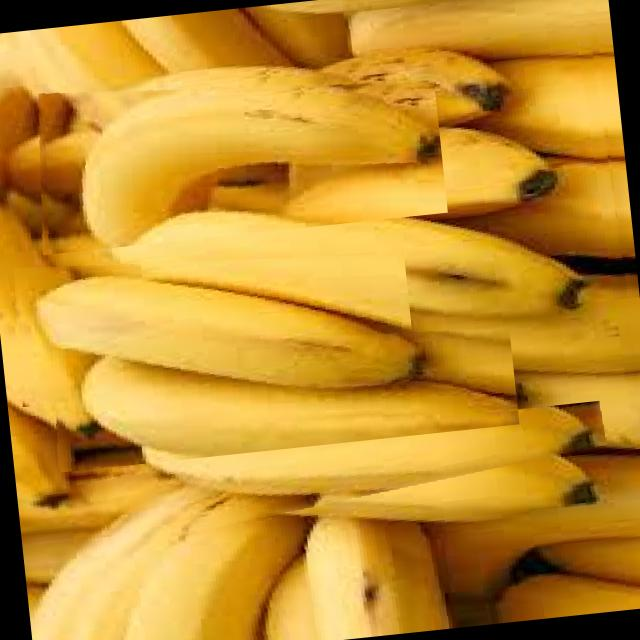Organic: (0, 0, 640, 640), (25, 51, 448, 254), (46, 299, 518, 472), (99, 399, 612, 548), (8, 226, 415, 406)
